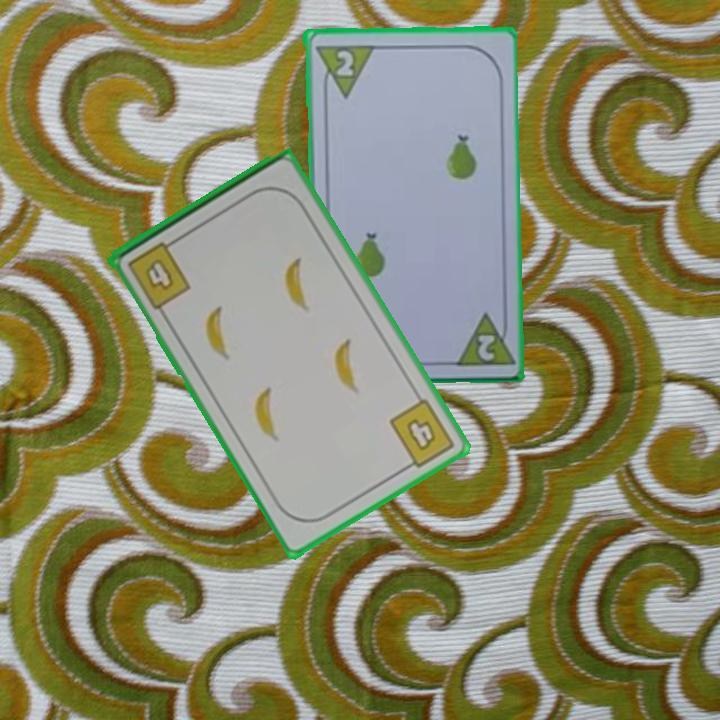2p: (449, 307, 514, 369), (311, 40, 375, 101)
4b: (385, 395, 458, 474), (123, 235, 194, 312)
